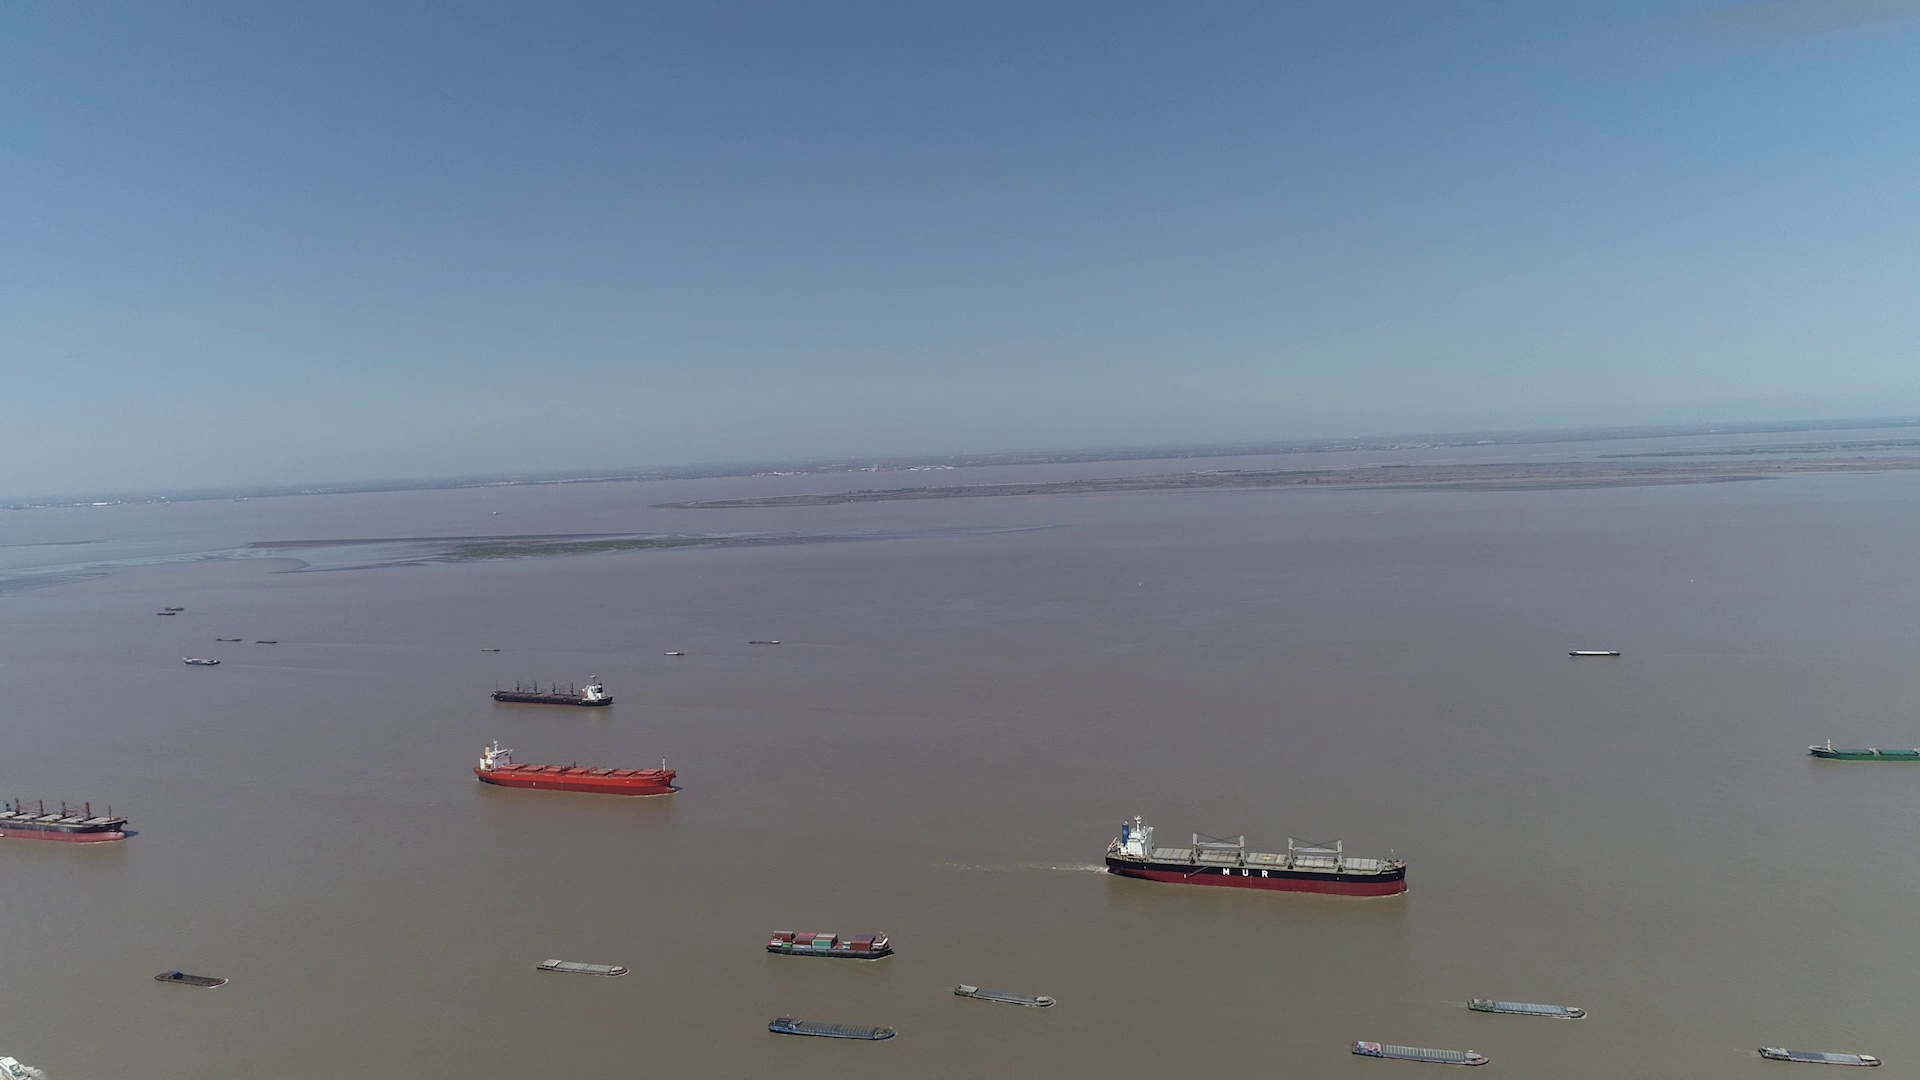ship: (1106, 816, 1411, 898), (473, 736, 675, 795), (0, 789, 131, 843), (1352, 1039, 1491, 1069), (766, 927, 894, 959), (491, 676, 617, 708), (767, 1015, 895, 1042), (1756, 1044, 1880, 1068), (1466, 996, 1589, 1019), (953, 981, 1058, 1007), (1808, 738, 1919, 761), (537, 957, 629, 976), (154, 969, 229, 988), (0, 1050, 38, 1079), (185, 655, 219, 667), (1571, 650, 1619, 658)
